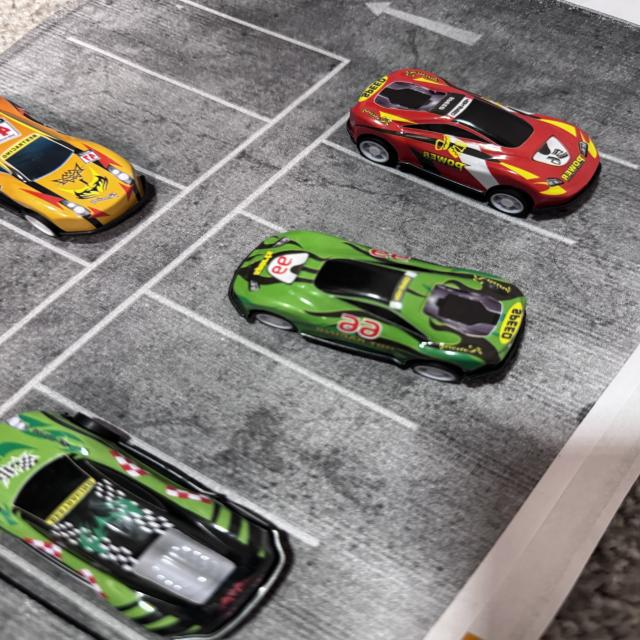Car: (0, 417, 436, 590), (332, 20, 640, 212), (267, 242, 551, 374), (0, 77, 115, 255)
